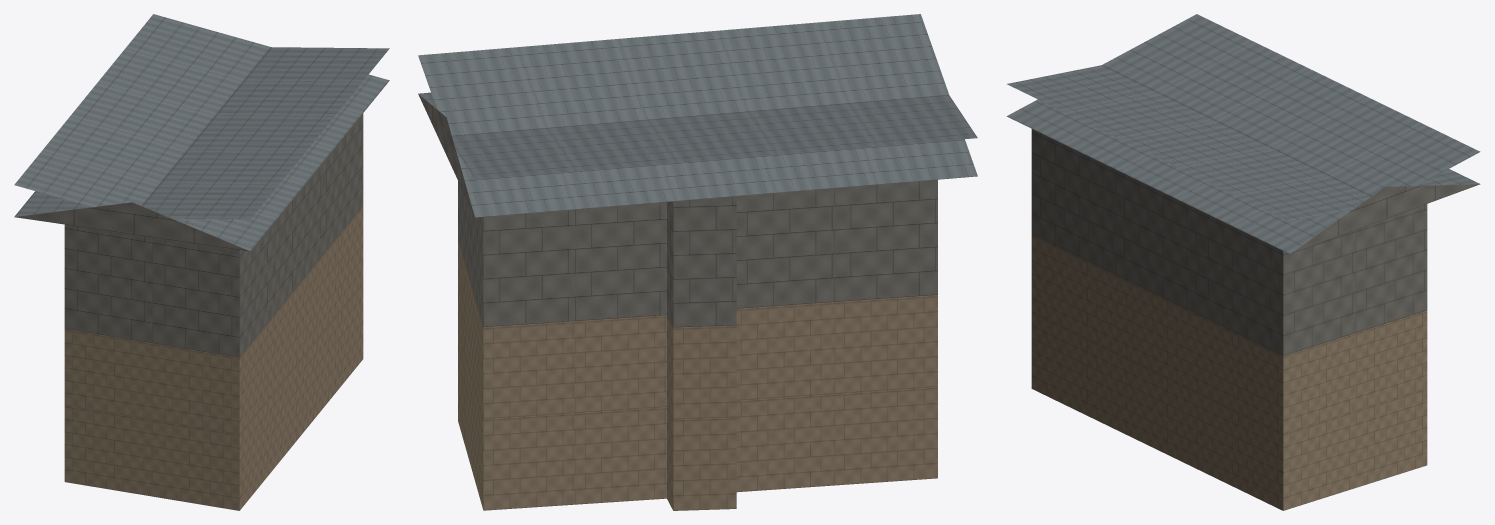
Rendered from bld_c16_25_399.gltf.
3 views of the same model, side by side, from view 1: azimuth 30°, elevation 25°; view 2: azimuth 150°, elevation 25°; view 3: azimuth 270°, elevation 25° (orthographic). The views are drawn at different scales.
Visible parts, largest first — view 1: bld_c16_25_399; view 2: bld_c16_25_399; view 3: bld_c16_25_399.
Part boxes in pixels (x1,y1,x2,y2): bld_c16_25_399: (14,14,389,510); bld_c16_25_399: (418,14,977,510); bld_c16_25_399: (1006,14,1480,510).
Bounding box in the file's own units: 13.79 × 9.4 × 13.3.
4 materials, 4 textured.
